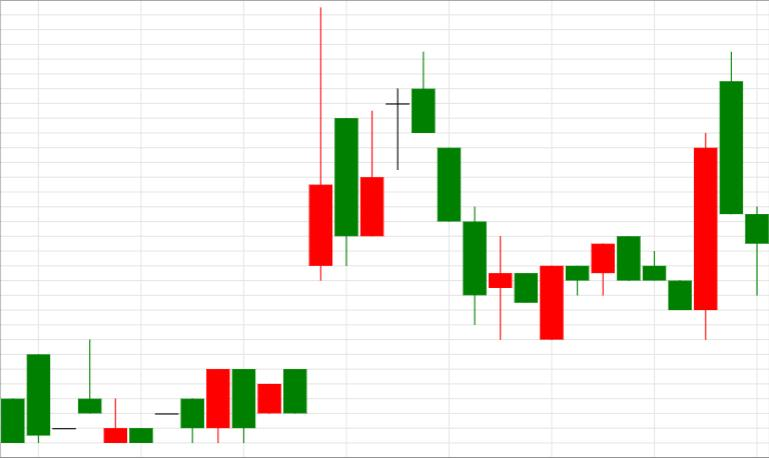three_black_crows_fall: (258, 8, 486, 414)
